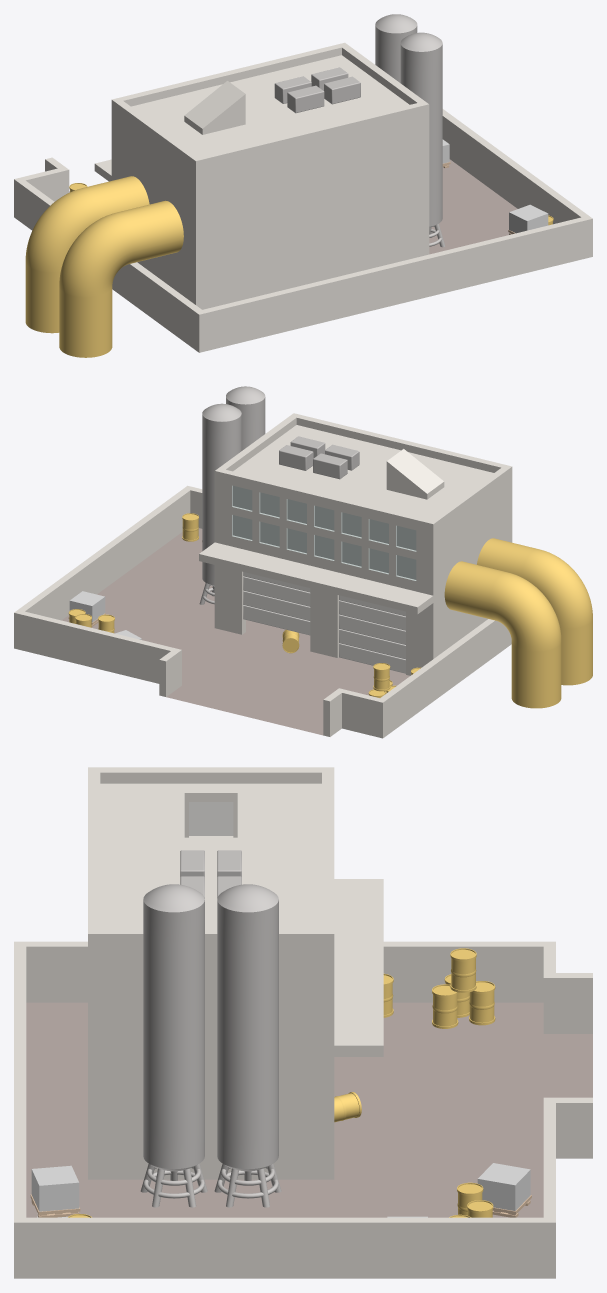
3 renders of one model, top to bottom at view 1: azimuth 30°, elevation 25°; view 2: azimuth 150°, elevation 25°; view 3: azimuth 270°, elevation 25°, orthographic. The views are drawn at different scales.
Parts seen in each view (by area): view 1: Top floor, Border, Sweep (×2), Walls, Oil Tank (×2), Floor outside, Overhang, Roof exit-Walls, Ceiling, Cube.13, Cube.3, Cube (+2 smaller); view 2: Top floor, Floor outside, Border, Sweep (×2), Walls, Overhang, Oil Tank (×2), Cube 1 (×3), Cube 2 (×3), Cube 0 (×3), Roof exit-Walls, Cube 3 (×2) (+13 smaller); view 3: Floor outside, Border, Top floor, Oil Tank (×2), Walls, Overhang, Cube.13 (×2), Roof exit-Garage, Ceiling, Barrel.3, Barrel, Barrel.1 (+4 smaller).
Boxes of the visible parts, x1,y1,x2,y2 form: Top floor: (111,42,429,237); Border: (14,109,592,352); Sweep (×2): (25,176,183,357); Walls: (137,196,429,309); Oil Tank (×2): (375,14,442,227); Floor outside: (69,159,517,254); Overhang: (94,159,429,244); Roof exit-Walls: (184,81,245,134); Ceiling: (183,188,429,252); Cube.13: (509,204,548,233); Cube.3: (287,85,324,113); Cube: (324,76,360,104); Top floor: (214,413,512,595); Floor outside: (61,528,409,735); Border: (14,485,511,738); Sweep (×2): (444,538,592,708); Walls: (214,565,487,675); Overhang: (199,538,512,614); Oil Tank (×2): (202,386,265,586); Cube 1 (×3): (232,485,405,659); Cube 2 (×3): (243,521,405,644); Cube 0 (×3): (232,515,405,673); Roof exit-Walls: (386,449,444,499); Cube 3 (×2): (259,492,405,630); Floor outside: (26,1002,592,1217); Border: (14,941,592,1278); Top floor: (88,767,334,1045); Oil Tank (×2): (143,884,278,1171); Walls: (88,1068,334,1179); Overhang: (88,879,383,1056); Cube.13 (×2): (31,1163,530,1211); Roof exit-Garage: (189,802,233,835); Ceiling: (88,1057,334,1067); Barrel.3: (450,948,476,992); Barrel: (432,984,458,1028); Barrel.1: (469,981,495,1025).
Bounding box in the file's own units: 6.58e+09 × 2.95e+09 × 4.7e+09.
